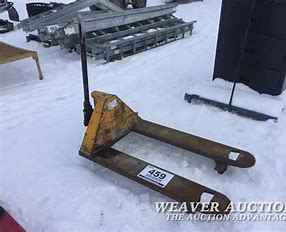Pallet Jack: (72, 17, 258, 218)
